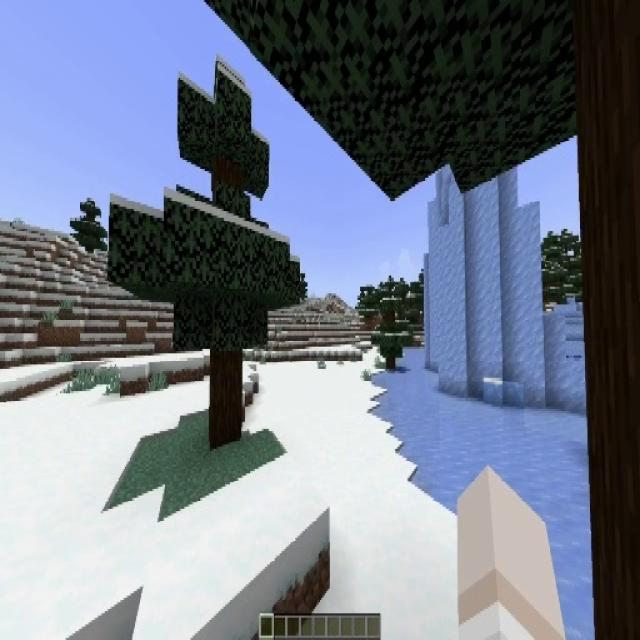spruce: (121, 45, 301, 444), (373, 294, 409, 366), (71, 195, 107, 259)
spruce_log: (209, 348, 242, 448), (387, 357, 395, 369)
